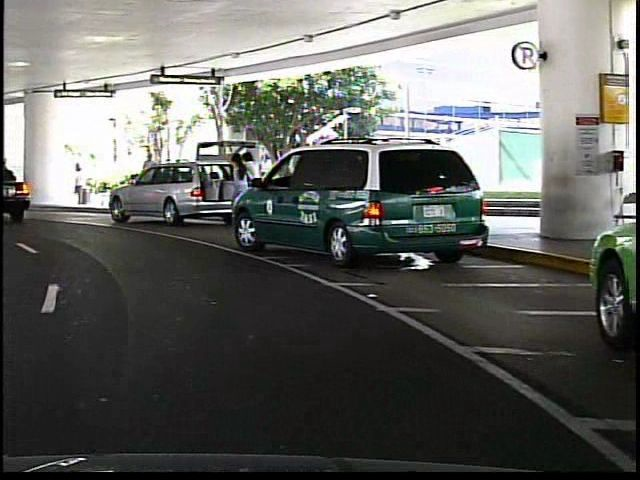person: (136, 149, 157, 203), (226, 148, 246, 199)
